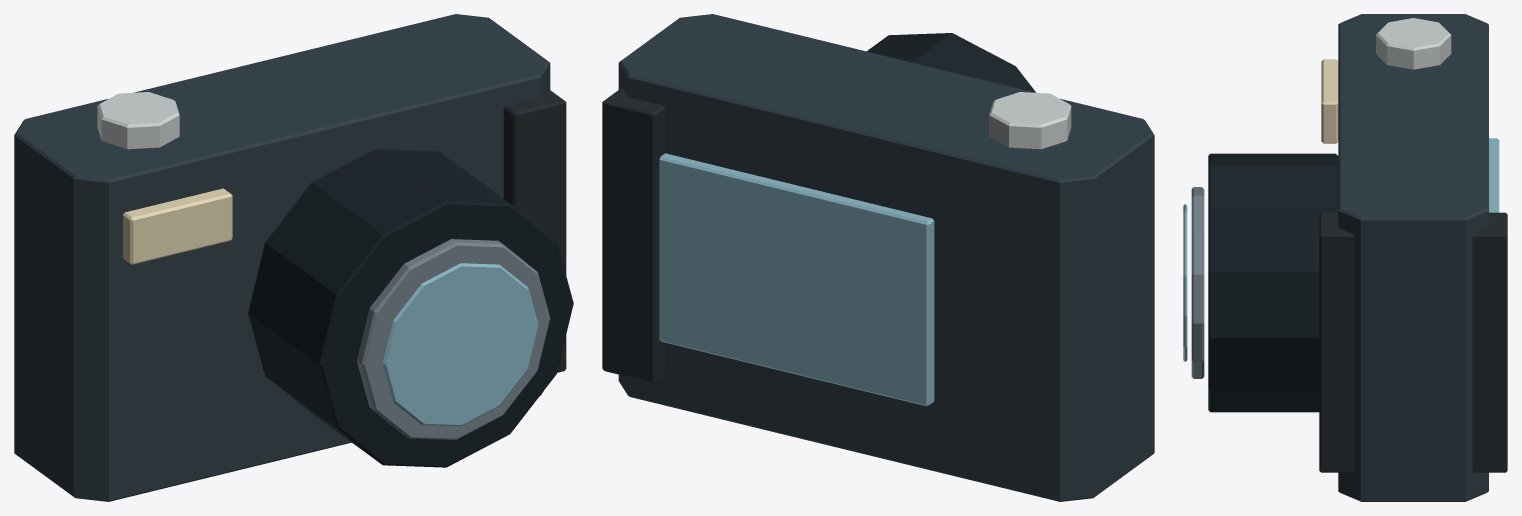
Rendered from b17_compact_digital_camera.glb.
The picture shows the model from 3 angles, left to right: view 1: azimuth 30°, elevation 25°; view 2: azimuth 150°, elevation 25°; view 3: azimuth 270°, elevation 25°; orthographic projection. The views are drawn at different scales.
Visible parts, largest first — view 1: b17_compact_digital_camera; view 2: b17_compact_digital_camera; view 3: b17_compact_digital_camera.
Part boxes in pixels (bbox=[...]): b17_compact_digital_camera: bbox=[14, 14, 573, 501]; b17_compact_digital_camera: bbox=[602, 14, 1154, 501]; b17_compact_digital_camera: bbox=[1183, 14, 1507, 501].
Bounding box in the file's own units: 0.116 × 0.0805 × 0.0775.
